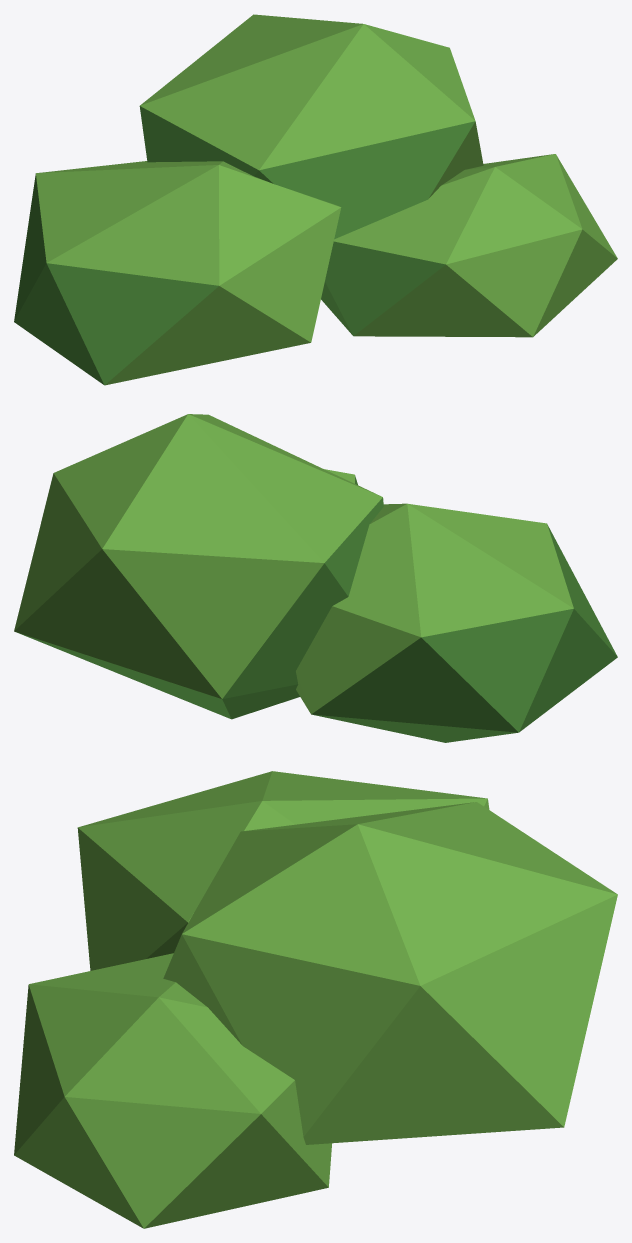
File: BE_Nature_BushA.fbx
3 views of the same model, one above another, from view 1: azimuth 30°, elevation 25°; view 2: azimuth 150°, elevation 25°; view 3: azimuth 270°, elevation 25° (orthographic). The views are drawn at different scales.
Visible parts, largest first — view 1: BE_Nature_BushA_Base_6FAE4A, BE_Nature_BushA_Shade_4C8A3A; view 2: BE_Nature_BushA_Base_6FAE4A, BE_Nature_BushA_Shade_4C8A3A; view 3: BE_Nature_BushA_Base_6FAE4A.
Part boxes in pixels (bbox=[...]): BE_Nature_BushA_Base_6FAE4A: bbox=[36, 14, 617, 385]; BE_Nature_BushA_Shade_4C8A3A: bbox=[14, 106, 475, 385]; BE_Nature_BushA_Base_6FAE4A: bbox=[14, 414, 573, 714]; BE_Nature_BushA_Shade_4C8A3A: bbox=[16, 475, 617, 742]; BE_Nature_BushA_Base_6FAE4A: bbox=[14, 771, 617, 1228].
Size of the model in its own units: 4 by 3 by 2.
